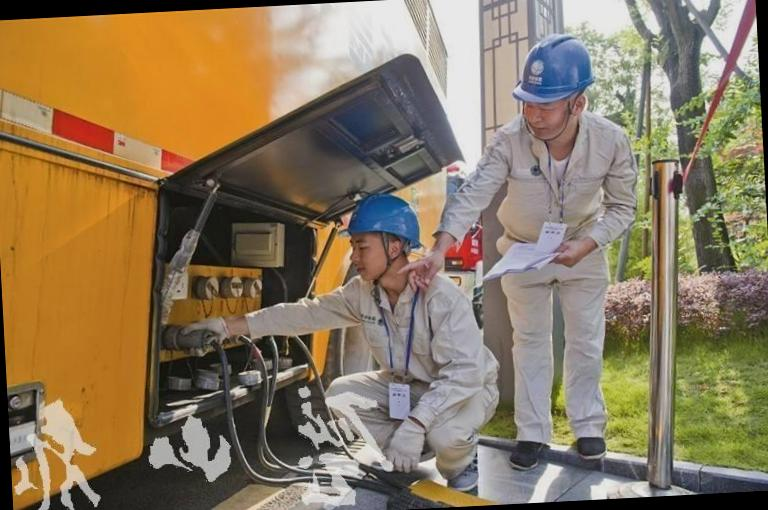helmet: (509, 30, 596, 106), (342, 191, 427, 264)
no_vest: (494, 120, 637, 294), (346, 270, 474, 460)
person: (484, 24, 654, 463), (306, 196, 470, 496)
